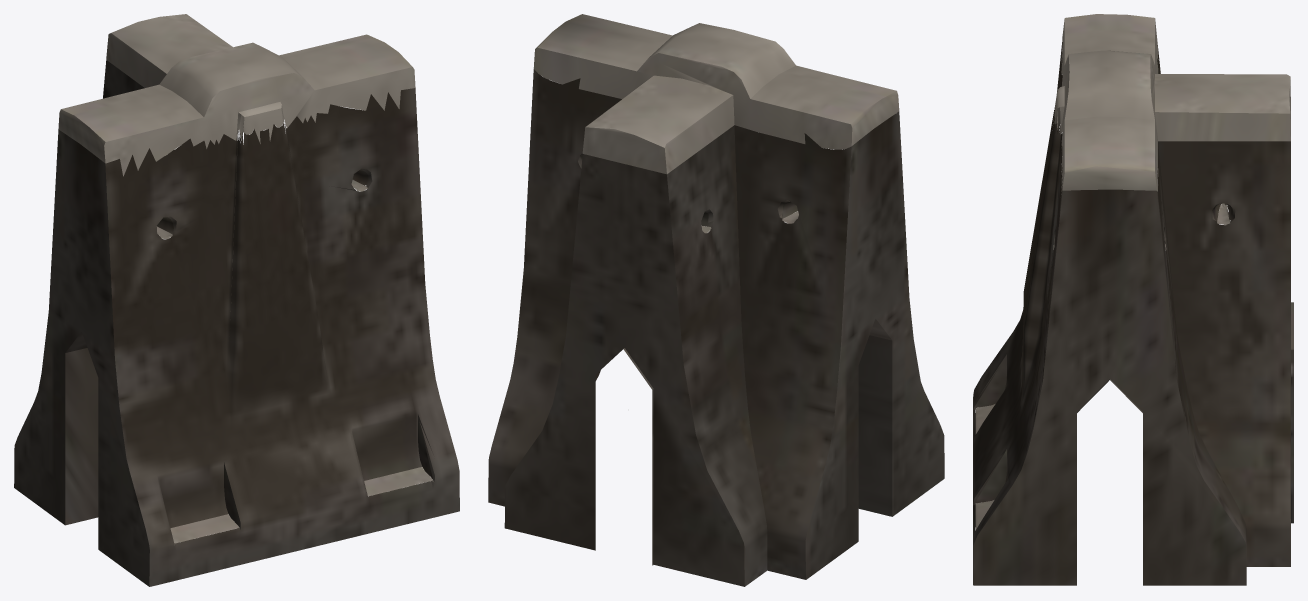
File: stone-wall-new.glb
3 views of the same model, side by side, from view 1: azimuth 30°, elevation 25°; view 2: azimuth 150°, elevation 25°; view 3: azimuth 270°, elevation 25° (orthographic). The views are drawn at different scales.
Parts seen in each view (by area): view 1: body; view 2: body; view 3: body.
Boxes of the visible parts, x1,y1,x2,y2 form: body: (14,14,459,586); body: (488,14,944,586); body: (973,14,1293,585).
Size of the model in its own units: 0.9921 by 1.32 by 0.8718.
1 material, 1 textured.
